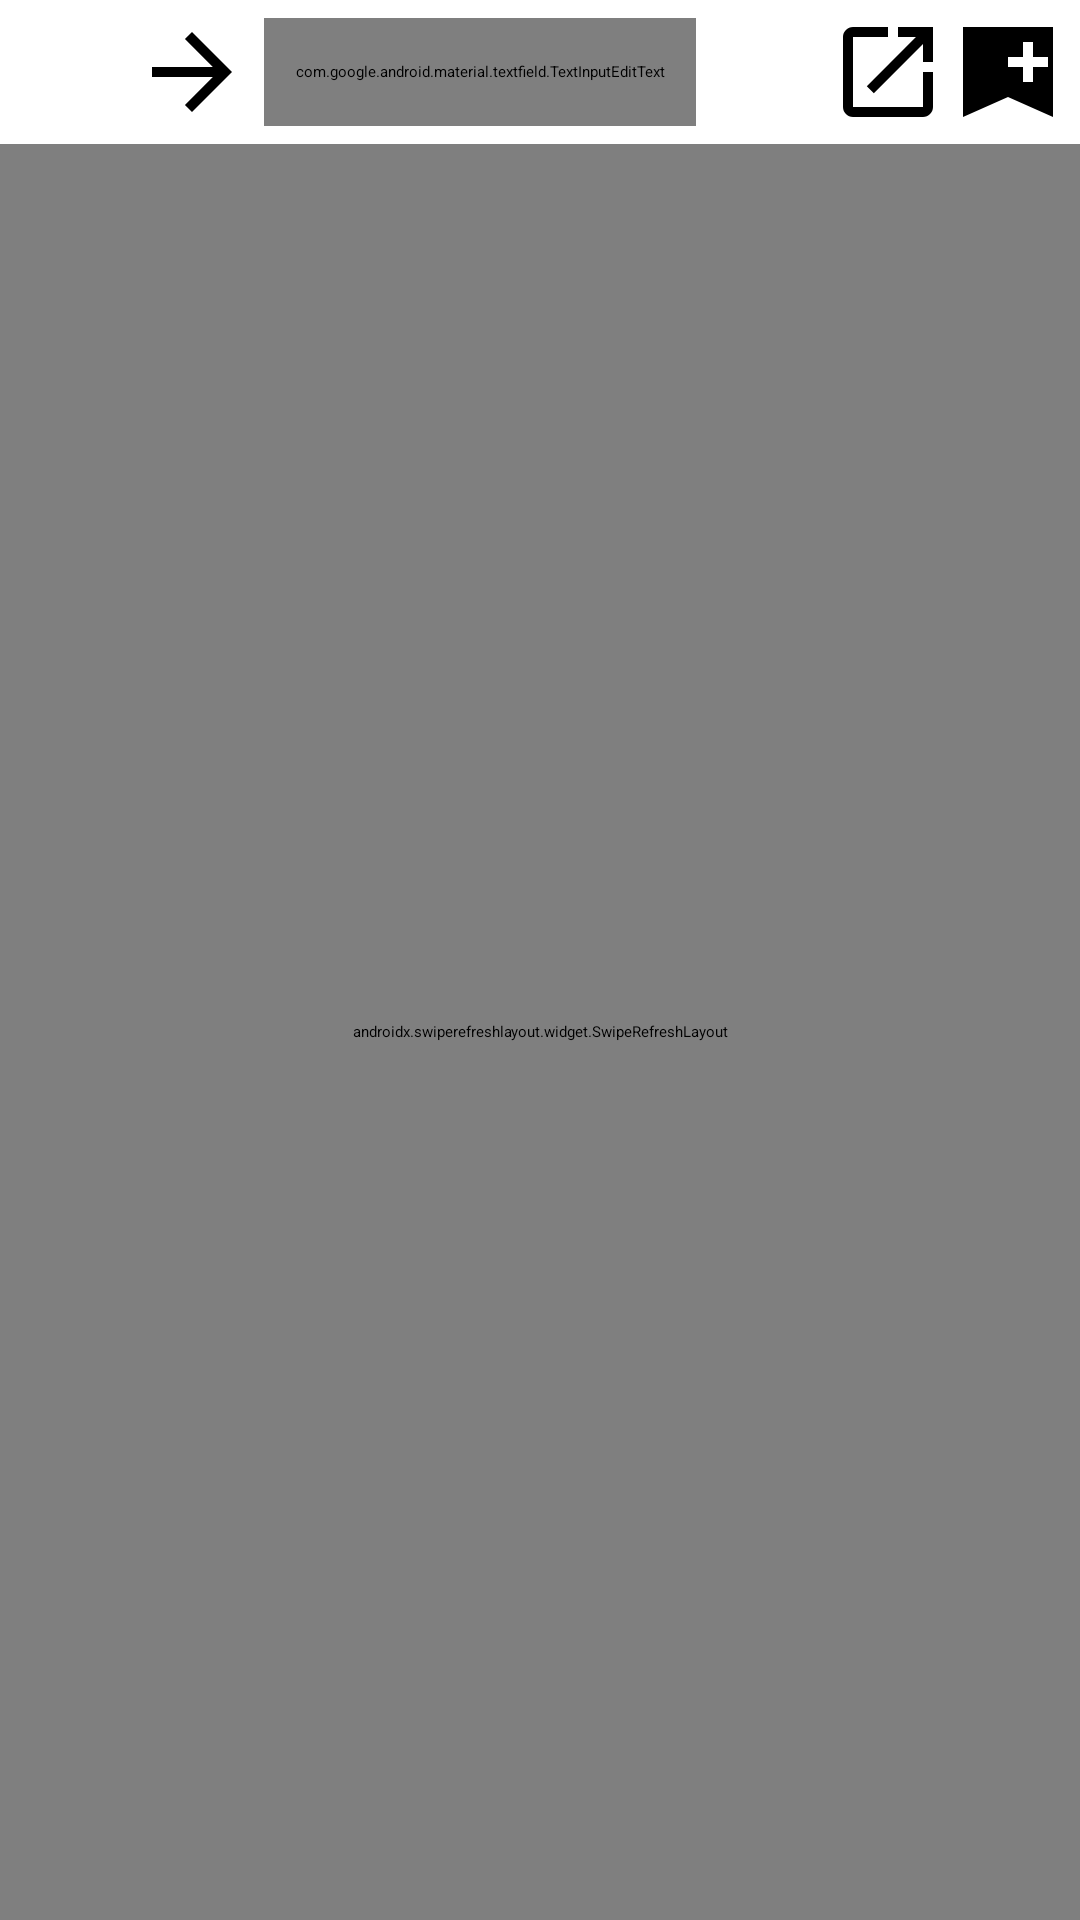

Locate icon controls on the screen. Image size 1080 × 1920, boxes as region(x1, y1, x2, y2).
Als Favorit speichern: region(963, 27, 1053, 117)
Im Browser öffnen: region(843, 27, 933, 117)
Vorwärts: region(152, 32, 232, 112)
